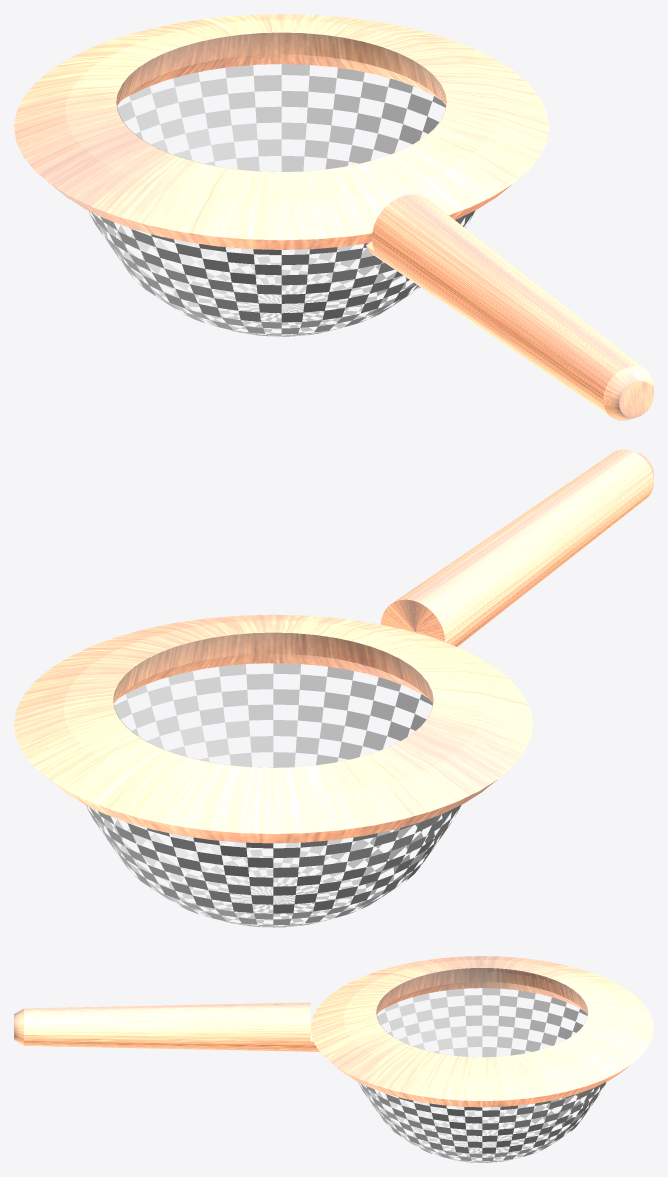
The model's file is sieve.fbx.
3 renders of one model, top to bottom at view 1: azimuth 30°, elevation 25°; view 2: azimuth 150°, elevation 25°; view 3: azimuth 270°, elevation 25°, orthographic. The views are drawn at different scales.
Parts seen in each view (by area): view 1: Cylinder; view 2: Cylinder; view 3: Cylinder.
Boxes of the visible parts, x1,y1,x2,y2 form: Cylinder: (14, 14, 653, 420); Cylinder: (14, 449, 653, 927); Cylinder: (14, 956, 653, 1162).
Bounding box in the file's own units: 92.46 × 40.76 × 172.
